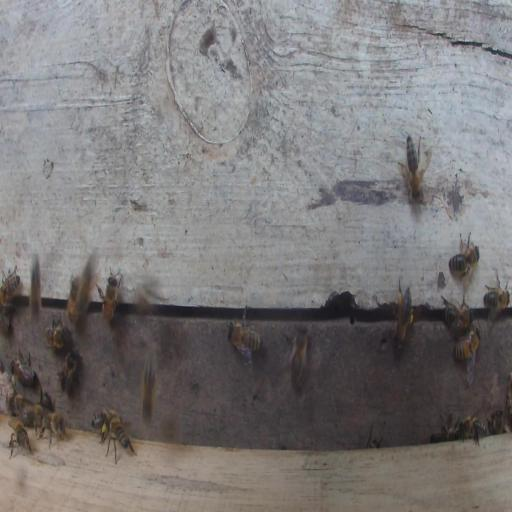bee: (398, 133, 430, 205), (96, 265, 123, 325), (448, 231, 480, 280), (227, 320, 263, 362), (453, 326, 481, 373), (290, 324, 309, 392), (140, 349, 157, 424), (394, 287, 413, 350), (442, 295, 472, 330), (38, 411, 66, 448), (58, 348, 79, 395), (8, 419, 32, 459), (10, 350, 35, 387), (45, 314, 69, 351), (457, 415, 485, 445), (91, 411, 122, 436), (29, 257, 42, 315), (1, 267, 20, 306), (66, 275, 80, 327), (482, 288, 510, 311), (110, 419, 129, 448), (430, 427, 460, 444), (23, 404, 43, 425), (489, 409, 505, 434), (9, 393, 23, 415), (0, 312, 11, 334), (40, 392, 50, 413), (458, 417, 459, 421)
